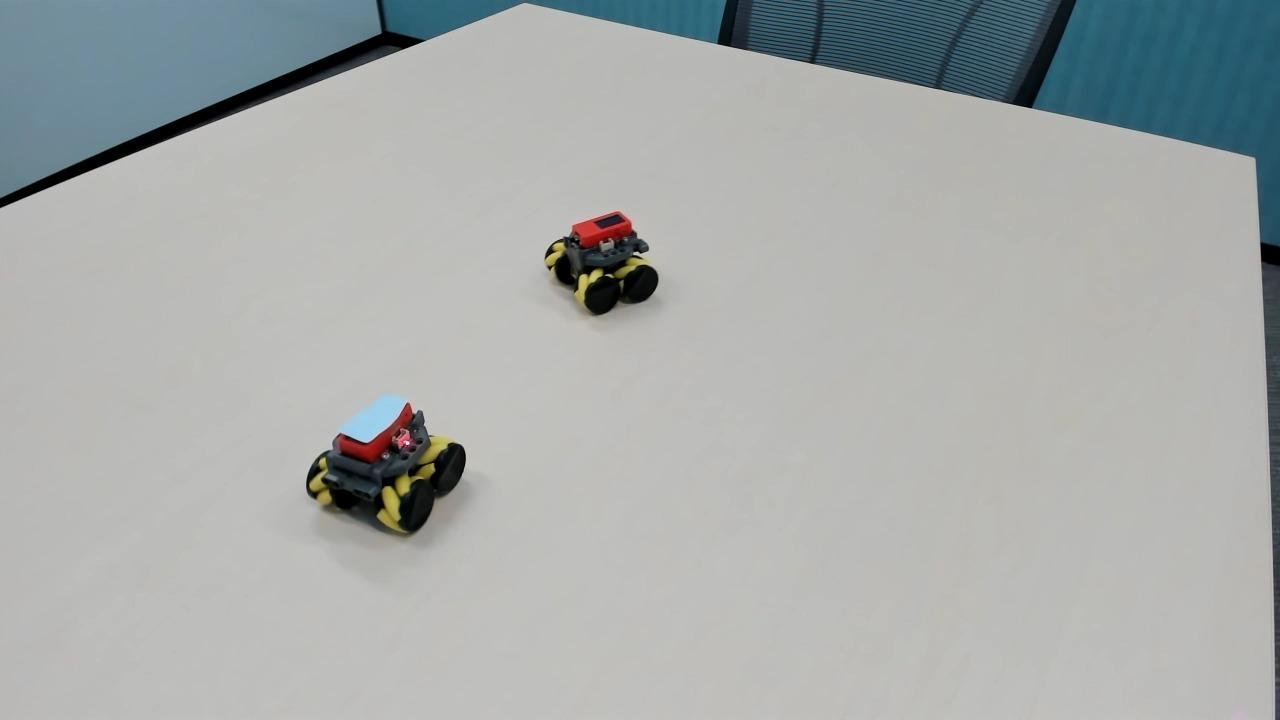B-Robot: (294, 383, 479, 551)
R-Robot: (526, 192, 674, 325)
